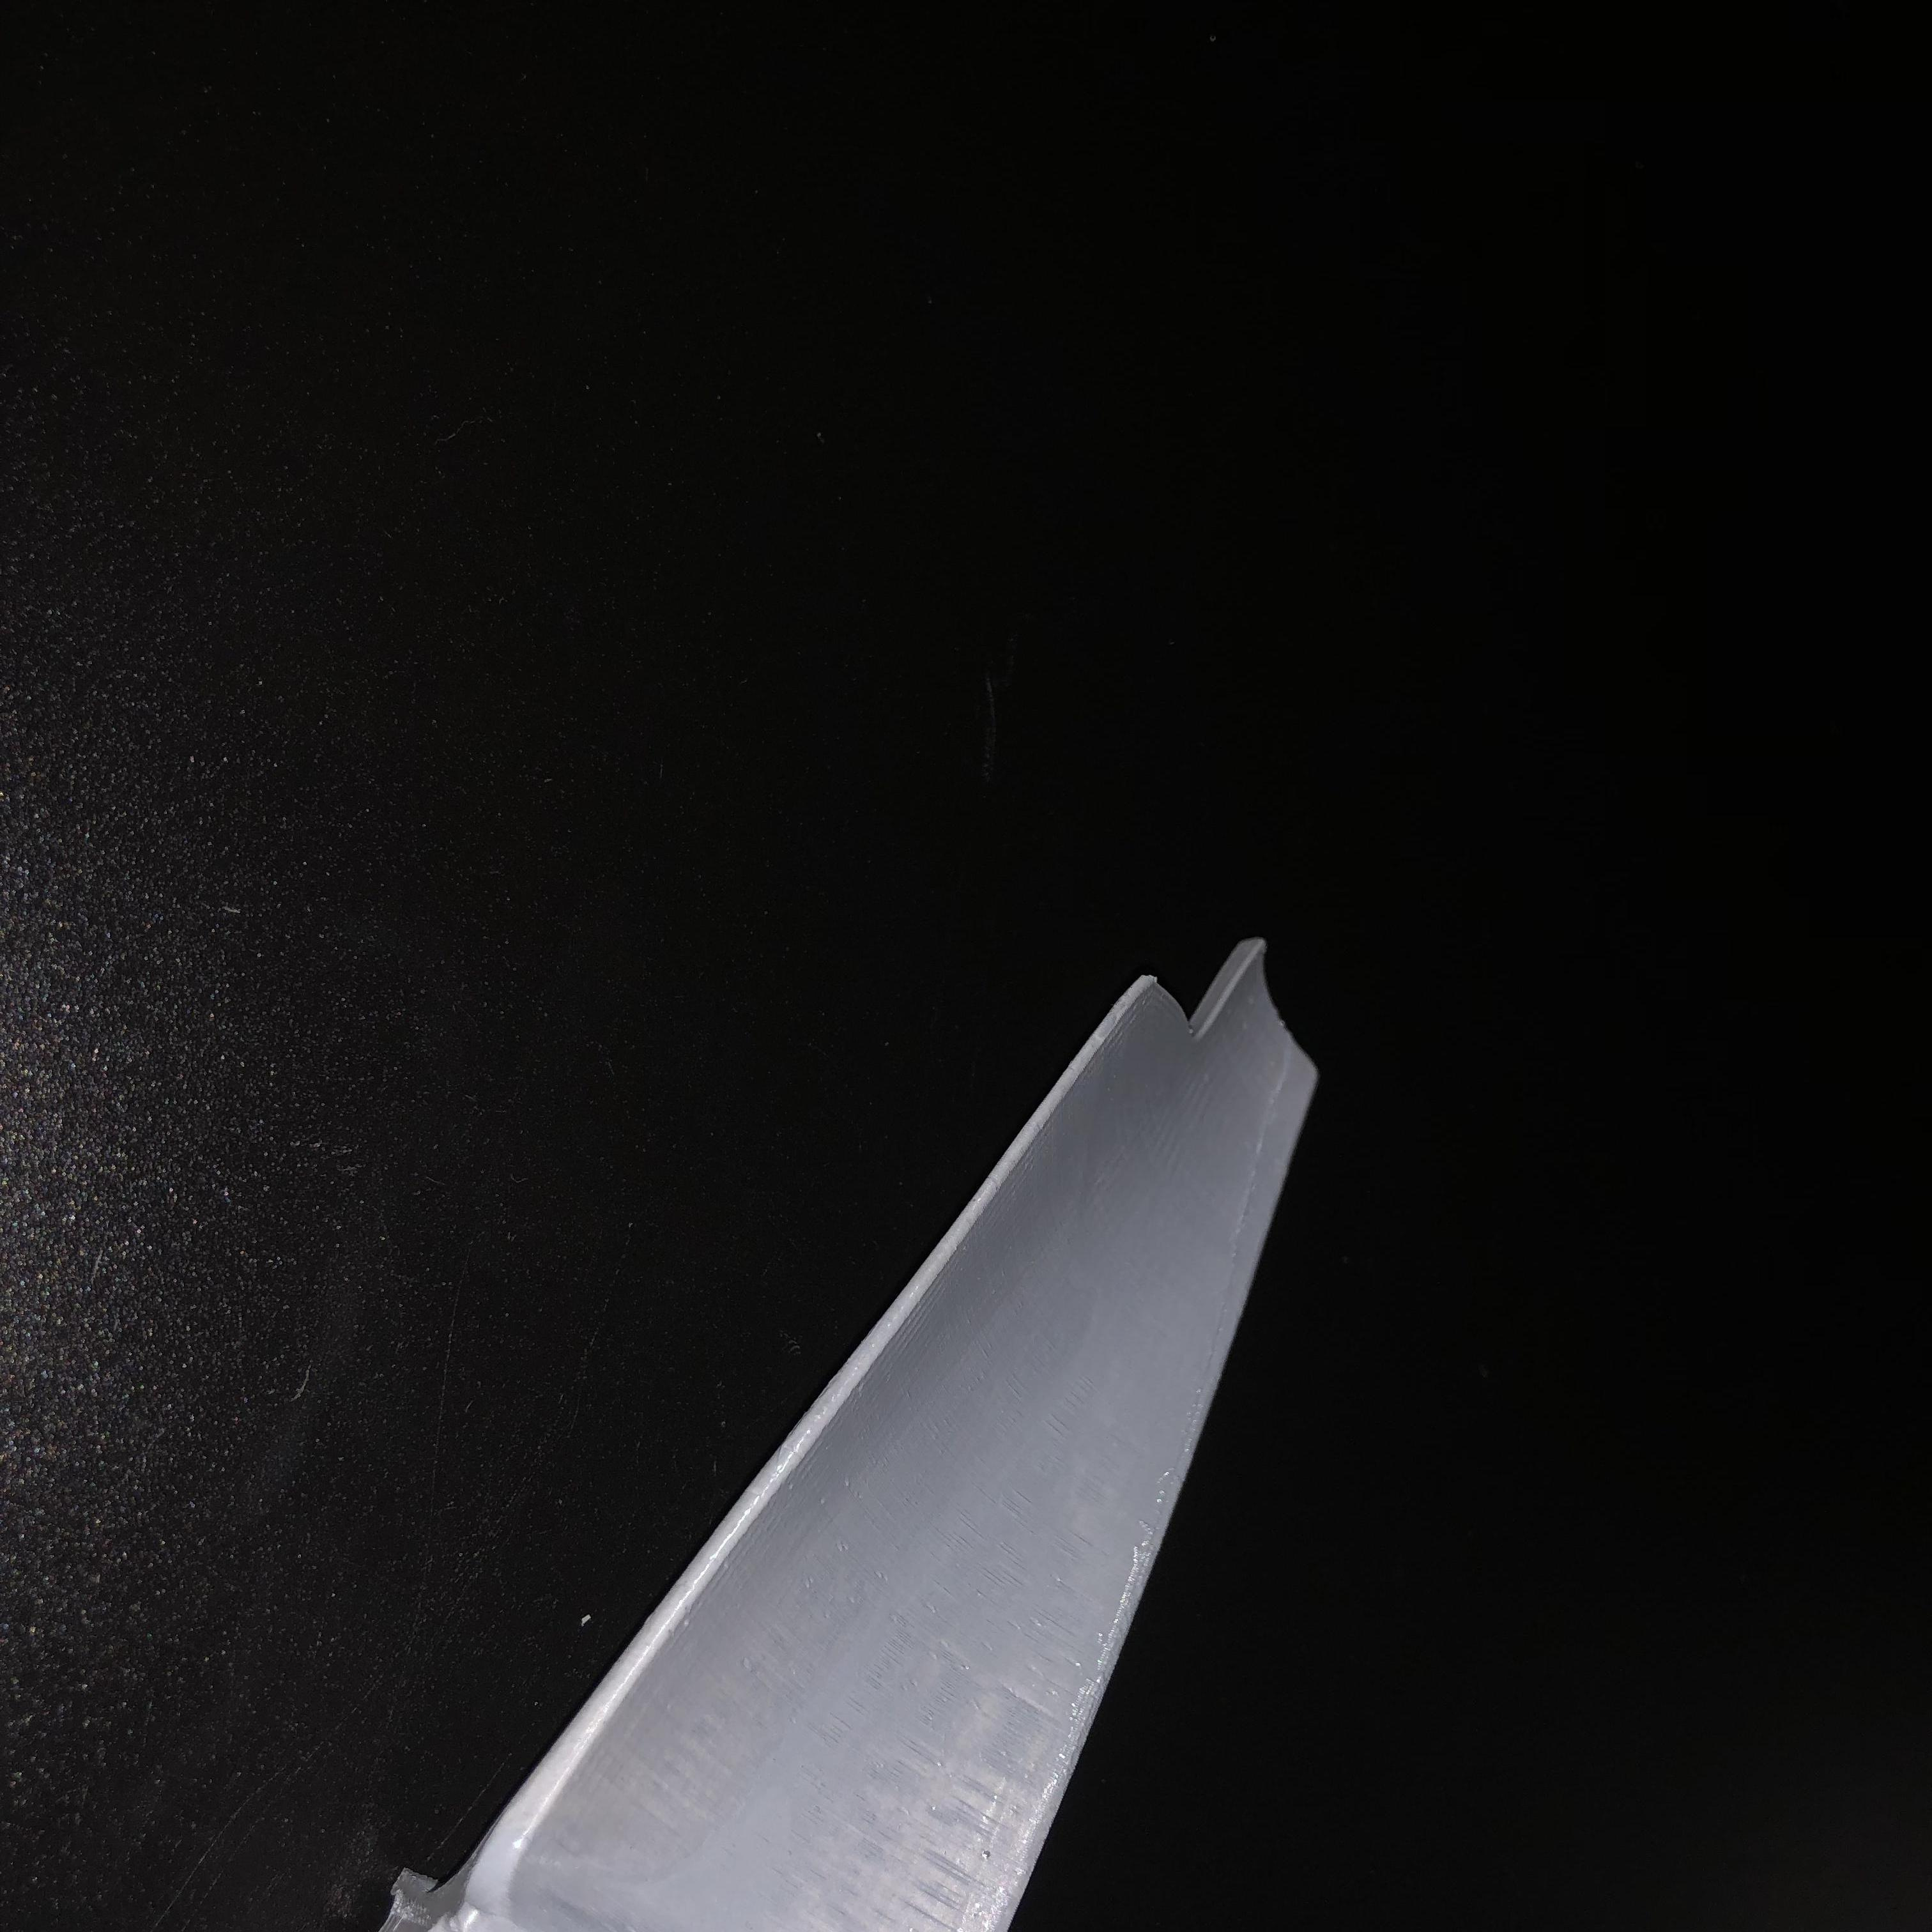fracture: (1132, 941, 1279, 1047)
